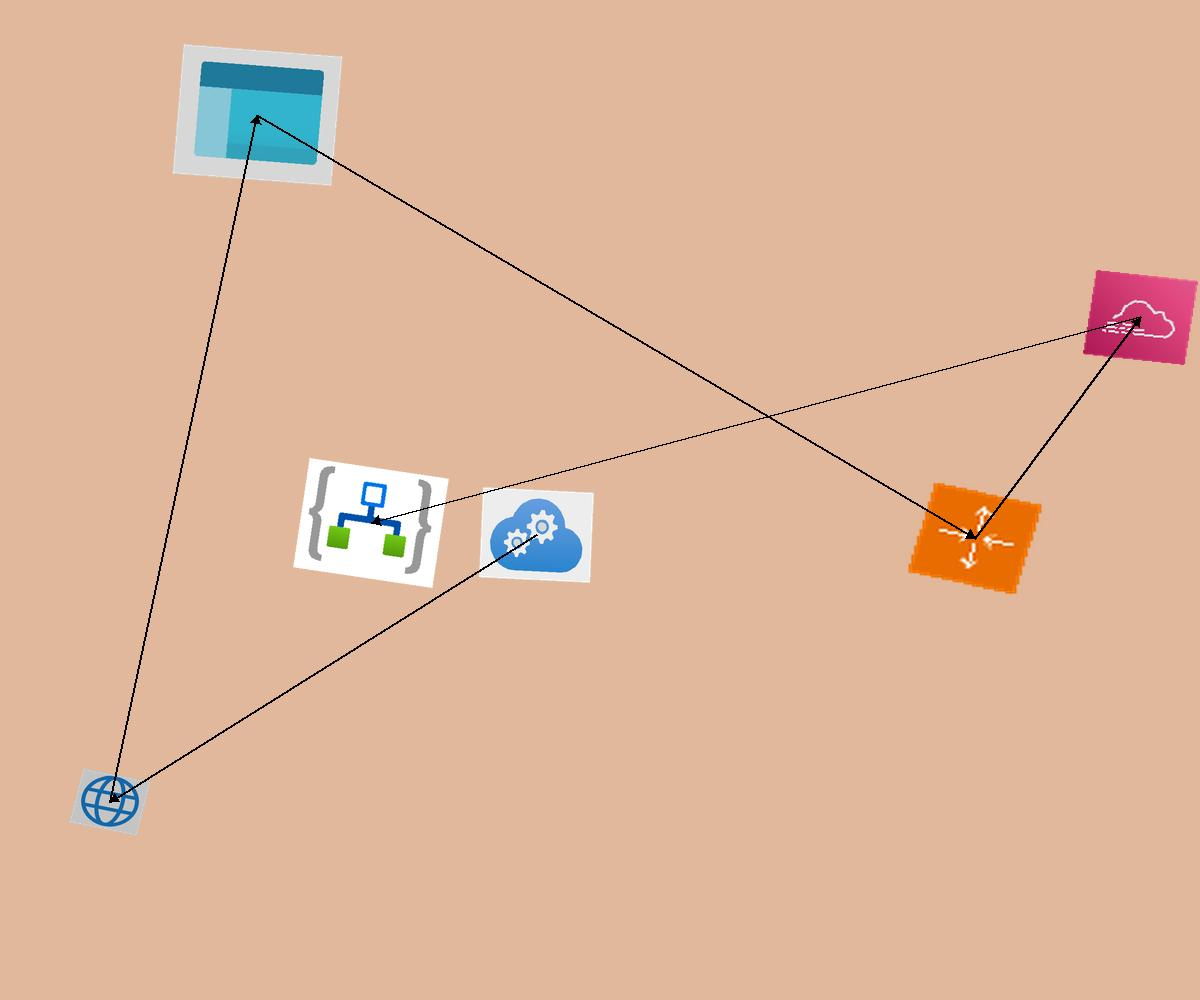AWS-CloudTrail: (1083, 270, 1198, 365)
AWS-Scaling-group: (906, 481, 1044, 596)
Azure_cloud_services: (479, 487, 594, 583)
Azure_http: (69, 768, 151, 836)
Azure_integration-204-Logic-Apps: (293, 458, 449, 588)
Azure_management-portal: (172, 44, 343, 186)
